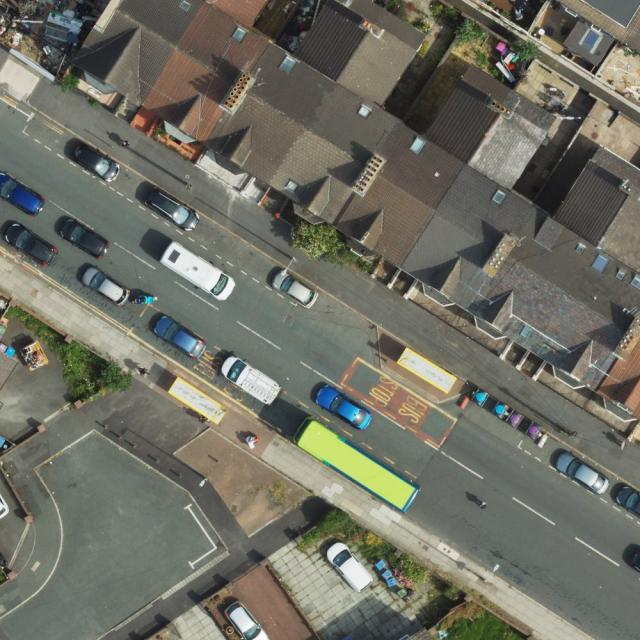roof: (69, 0, 640, 419), (554, 1, 640, 67)
skylight: (590, 253, 611, 275), (279, 54, 299, 75), (408, 136, 427, 155), (230, 26, 250, 44), (491, 187, 509, 207), (355, 103, 373, 120), (283, 179, 300, 192), (616, 267, 629, 281), (631, 274, 640, 290), (180, 1, 191, 11)
solar: (582, 29, 600, 50)
